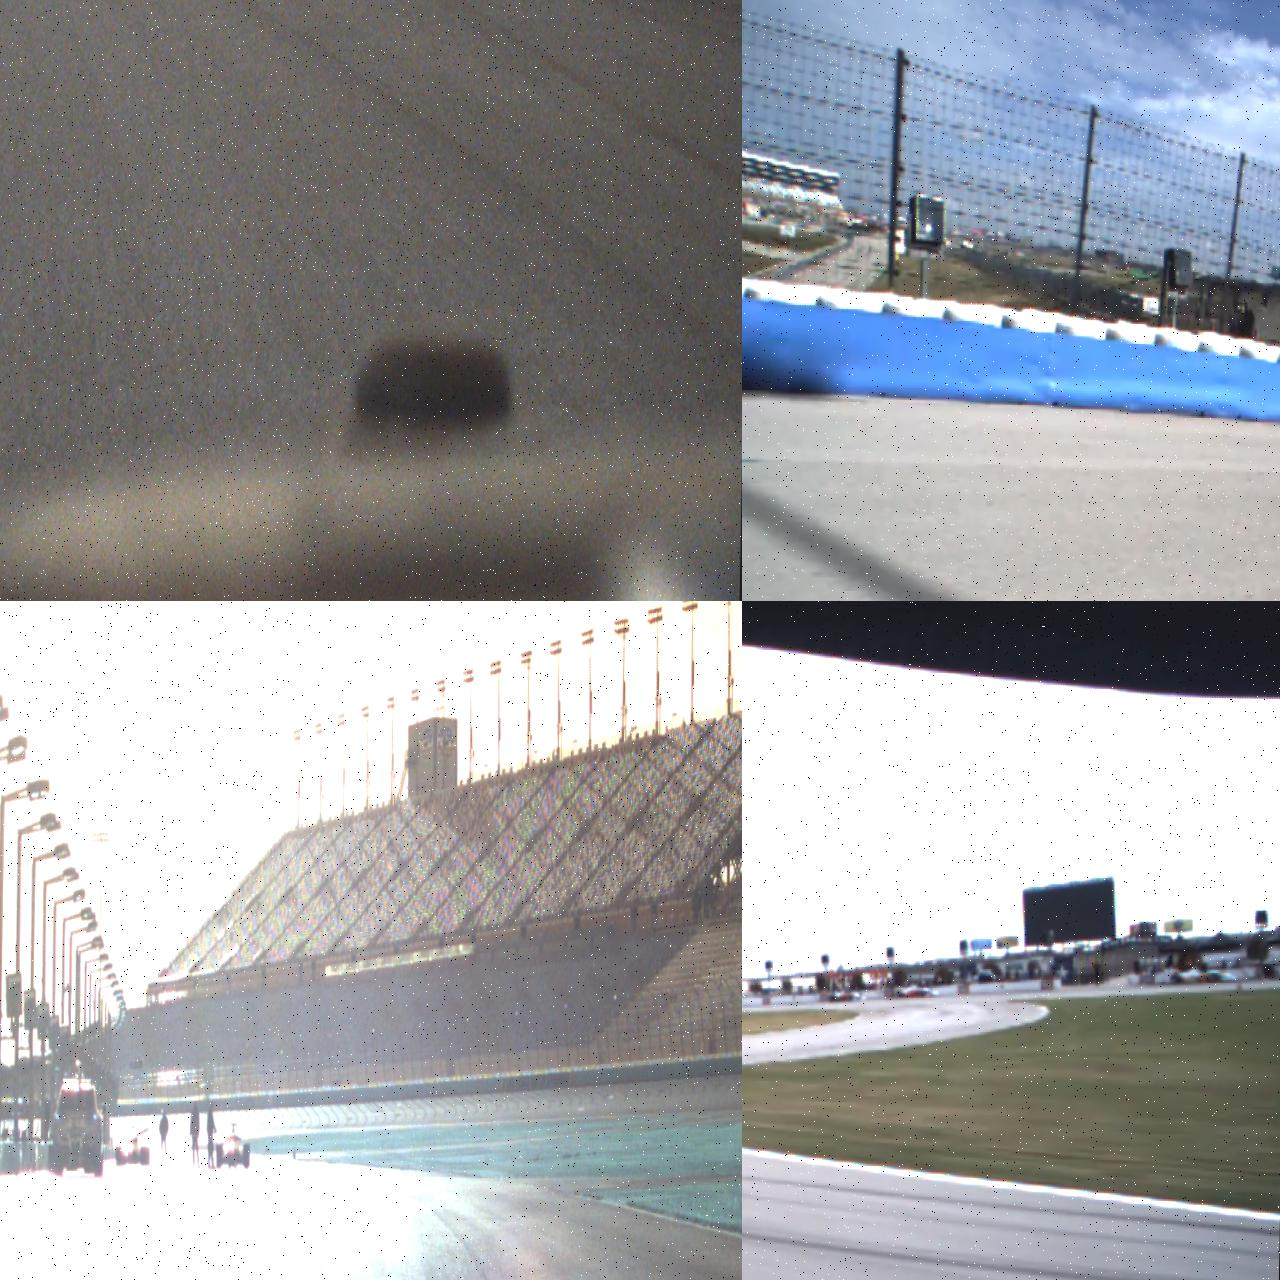AV: (216, 1123, 251, 1167), (116, 1124, 150, 1166)
Wheel: (139, 1145, 150, 1165), (243, 1143, 250, 1167), (216, 1143, 223, 1167), (116, 1145, 122, 1165)
